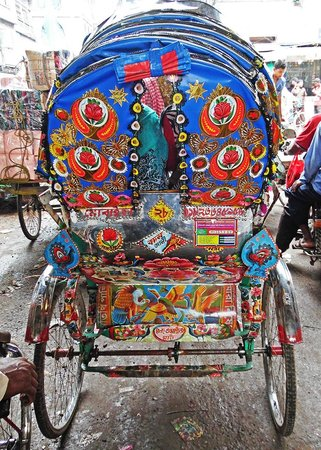Rickshaw: (1, 8, 298, 435)
